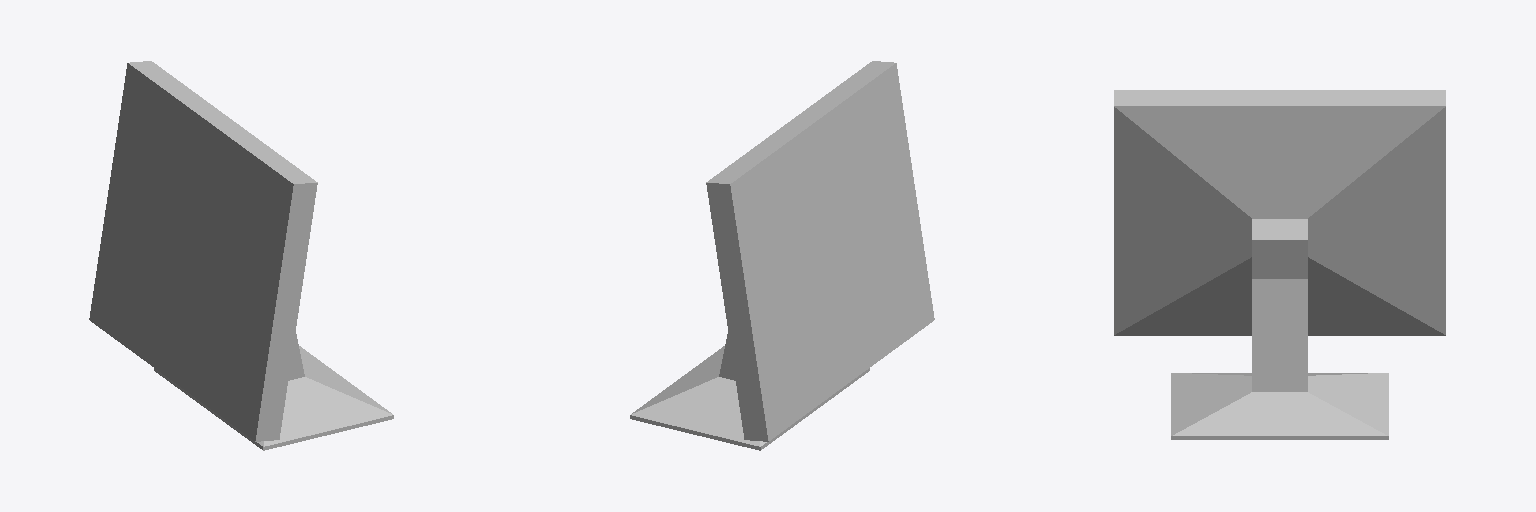
File: flatscreen.obj
3 views of the same model, side by side, from view 1: azimuth 30°, elevation 25°; view 2: azimuth 150°, elevation 25°; view 3: azimuth 270°, elevation 25° (orthographic).
Visible parts, largest first — view 1: flatscreen_Cube.001; view 2: flatscreen_Cube.001; view 3: flatscreen_Cube.001.
Boxes of the visible parts, box(x1,y1,x2,y2) form: flatscreen_Cube.001: box(89, 61, 393, 450); flatscreen_Cube.001: box(630, 61, 934, 450); flatscreen_Cube.001: box(1114, 90, 1445, 439).
Bounding box in the file's own units: 2.55 × 4.17 × 4.38.